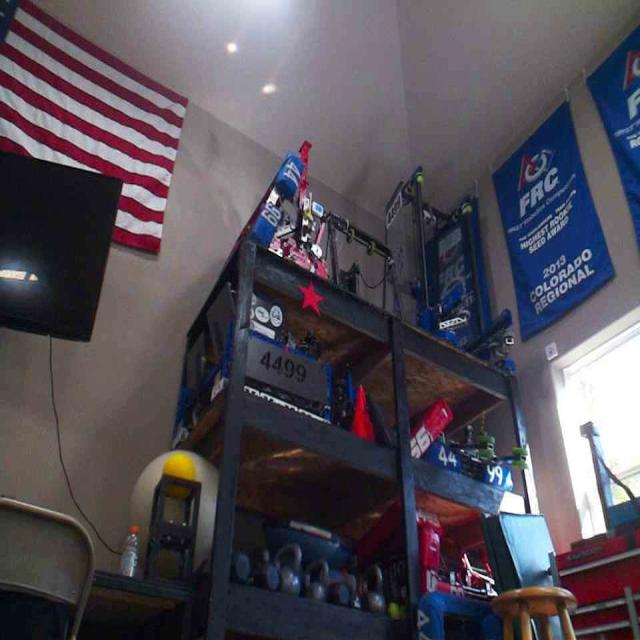star_red: (297, 279, 322, 314)
